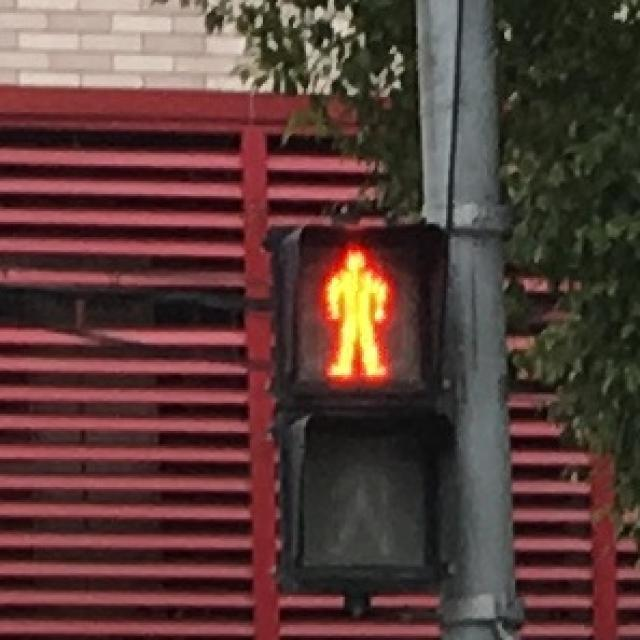red-crossing: (302, 236, 408, 390)
